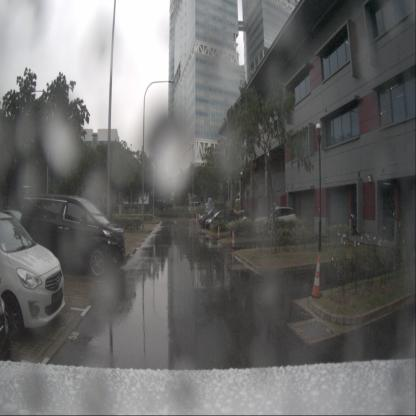movable_object-barrier: (196, 214, 200, 224), (196, 213, 199, 224)
movable_object-trafficcone: (309, 255, 323, 299), (230, 229, 236, 248), (216, 225, 222, 240)
vehicle-car: (19, 194, 127, 280), (0, 211, 66, 342), (253, 205, 297, 234), (204, 209, 240, 231), (198, 206, 230, 228)
